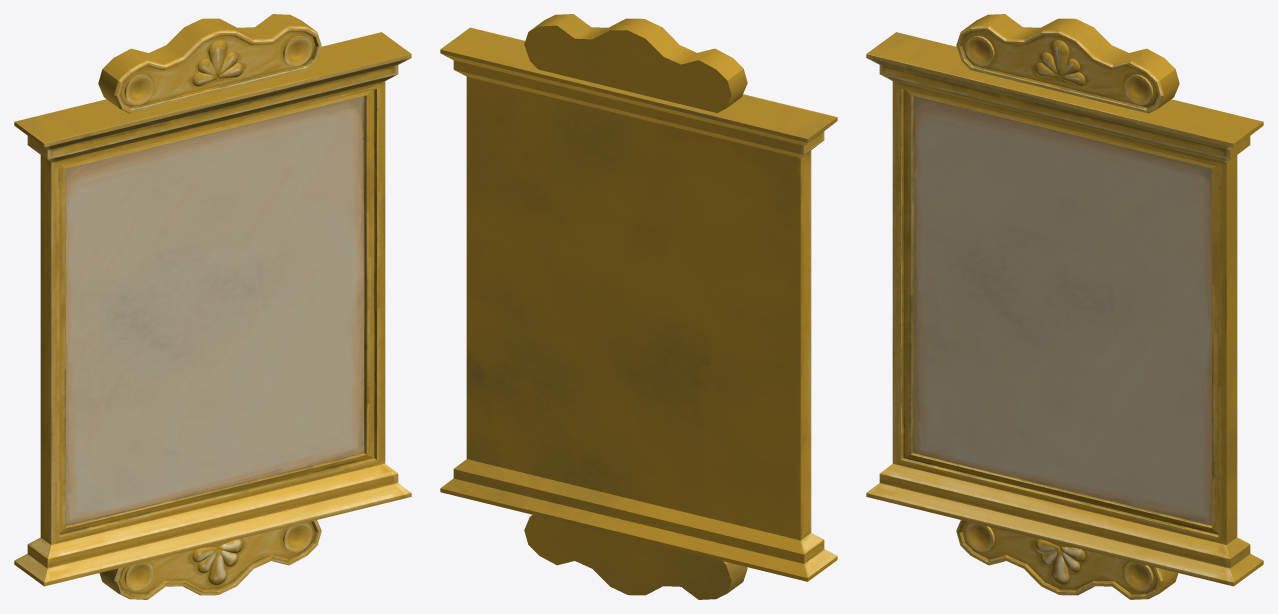
Rendered from menu_plaqueNew.fbx.
3 renders of one model, left to right at view 1: azimuth 30°, elevation 25°; view 2: azimuth 150°, elevation 25°; view 3: azimuth 330°, elevation 25°, orthographic.
Parts seen in each view (by area): view 1: Box001; view 2: Box001; view 3: Box001.
Boxes of the visible parts, x1,y1,x2,y2 form: Box001: (14, 14, 411, 599); Box001: (440, 14, 837, 599); Box001: (866, 14, 1263, 599).
Bounding box in the file's own units: 262 × 385 × 37.15.
Materials: 1 (1 with a texture image).
